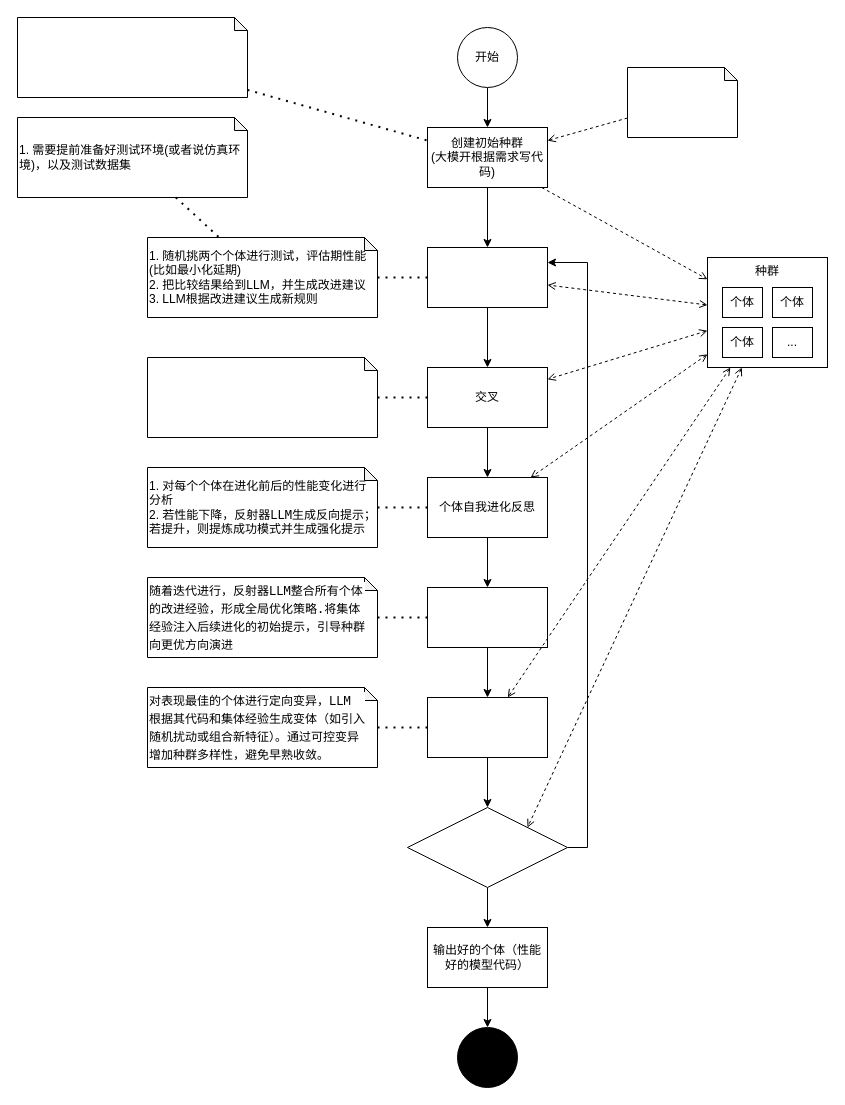
The diagram is 845 pixels wide and 1105 high, and some of its shapes have lost their labels. The box of each missing label's shape, as (x1, y1, x2, y2) in pixels:
1. 人要先根据需求与大模型互动确定符合需求的prompt(确定大模型在这个初始提示词下基本可以正常工作) 2. 工厂的基本模型需要提前建立: (16, 16, 248, 98)
1. 挑选性能好的两个个体 2. LLM结合两个父代规则的代码、性能反馈及改进建议，生成融合二者优势的新规则: (146, 356, 378, 438)
个体协同进化反思: (426, 246, 548, 308)
变异: (426, 696, 548, 758)
多轮进化保留性能好的: (406, 806, 568, 888)
结束: (456, 1026, 518, 1088)
输入需求: (626, 66, 738, 138)
集体进化反思: (426, 586, 548, 648)
